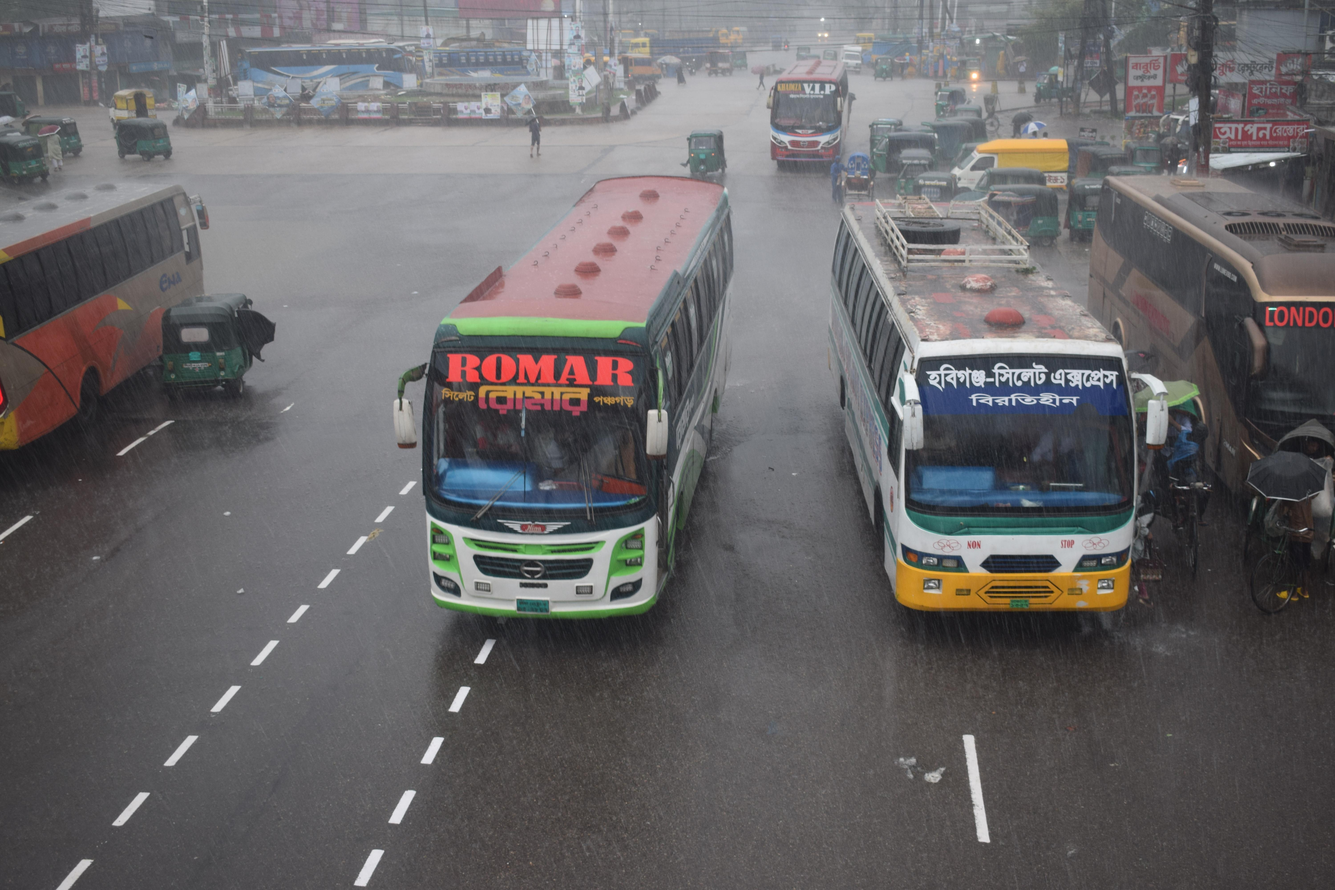Bus: (772, 178, 1189, 688), (382, 156, 783, 686), (1058, 146, 1335, 542), (0, 175, 227, 463), (213, 25, 427, 110), (747, 49, 878, 185), (421, 40, 602, 117)
Car: (928, 127, 1100, 181), (100, 75, 172, 134)
Truck: (606, 10, 724, 74)
